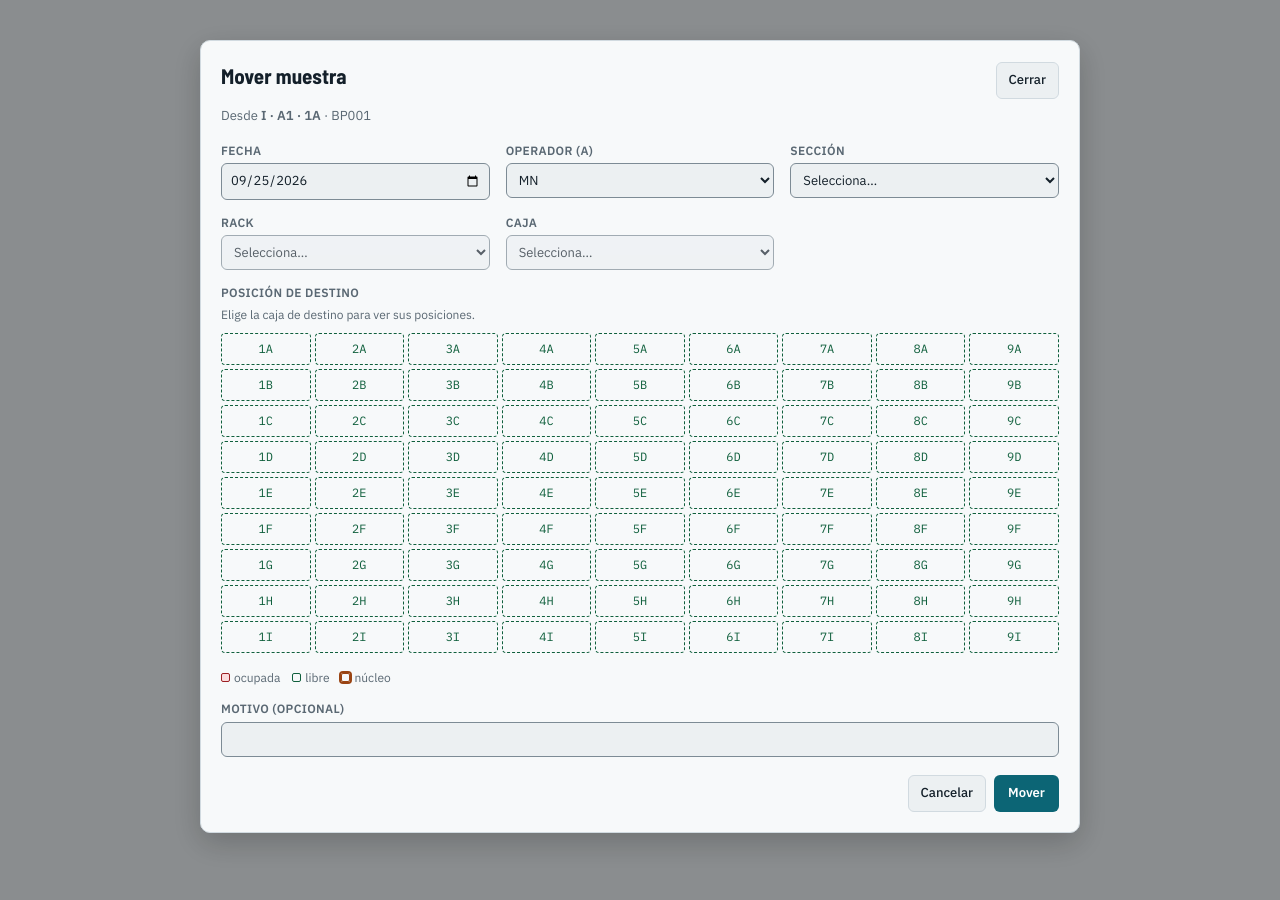
Test: MoveModal › exige caja y posición antes de enviar; el operador parte siendo la sesión
The width and height of the screenshot is (1280, 900).
Expected: the dropdown labelled "Operador (a)" shows "MN", [506,163,774,198]
Click the button "Mover" at coordinates (1027, 793), box [994,775,1059,812]
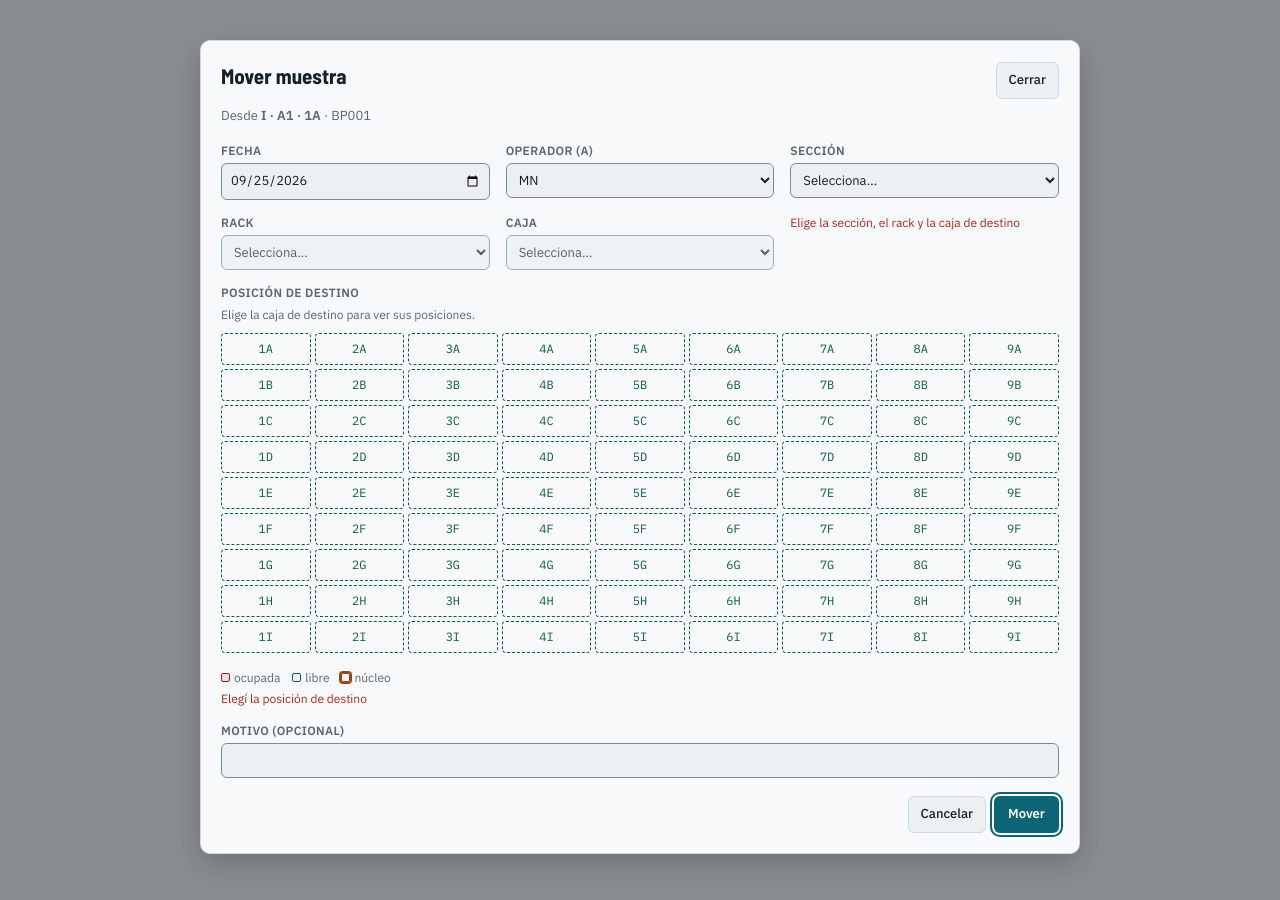
Now the text "Elige la sección, el rack y la caja de destino" is shown, box [790,214,1059,231]
